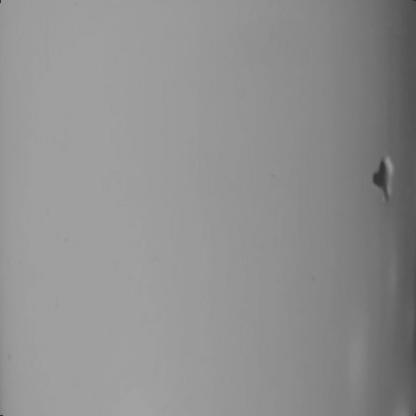kongdong: (367, 146, 398, 203)
